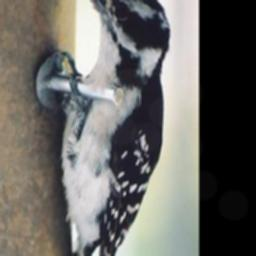Woodpecker: (54, 0, 171, 256)
